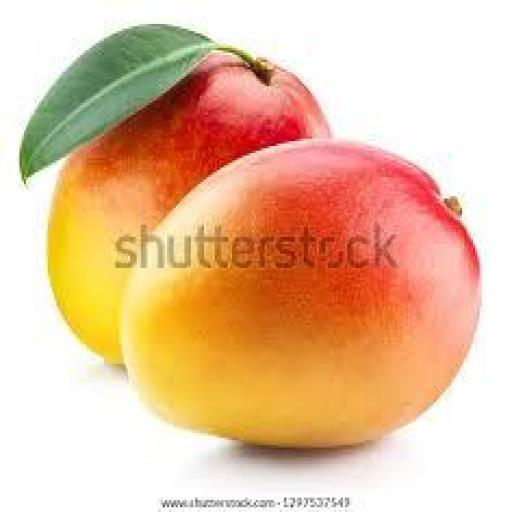mango: (124, 142, 483, 452), (50, 51, 338, 375)
